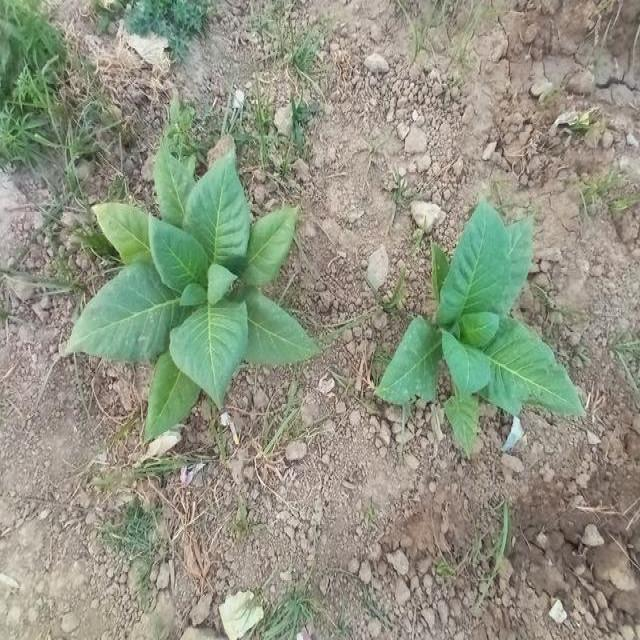crop: (89, 143, 287, 417), (396, 221, 570, 448)
